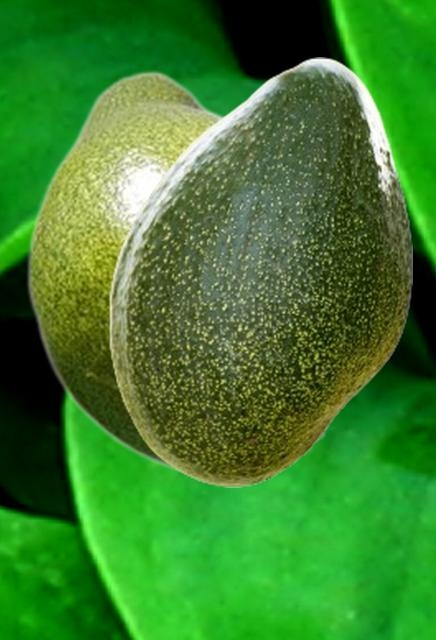avocado: (108, 57, 411, 486), (25, 70, 338, 478)
